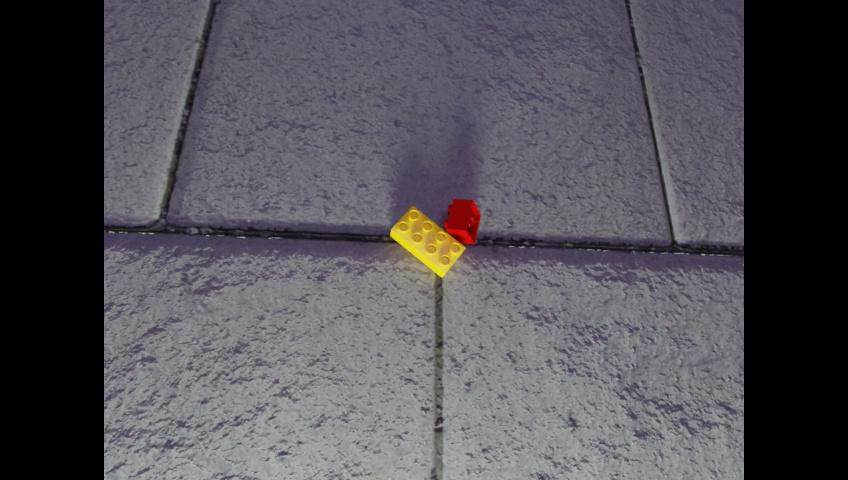2x2_red: (443, 198, 480, 243)
4x2_yellow: (390, 205, 464, 277)
